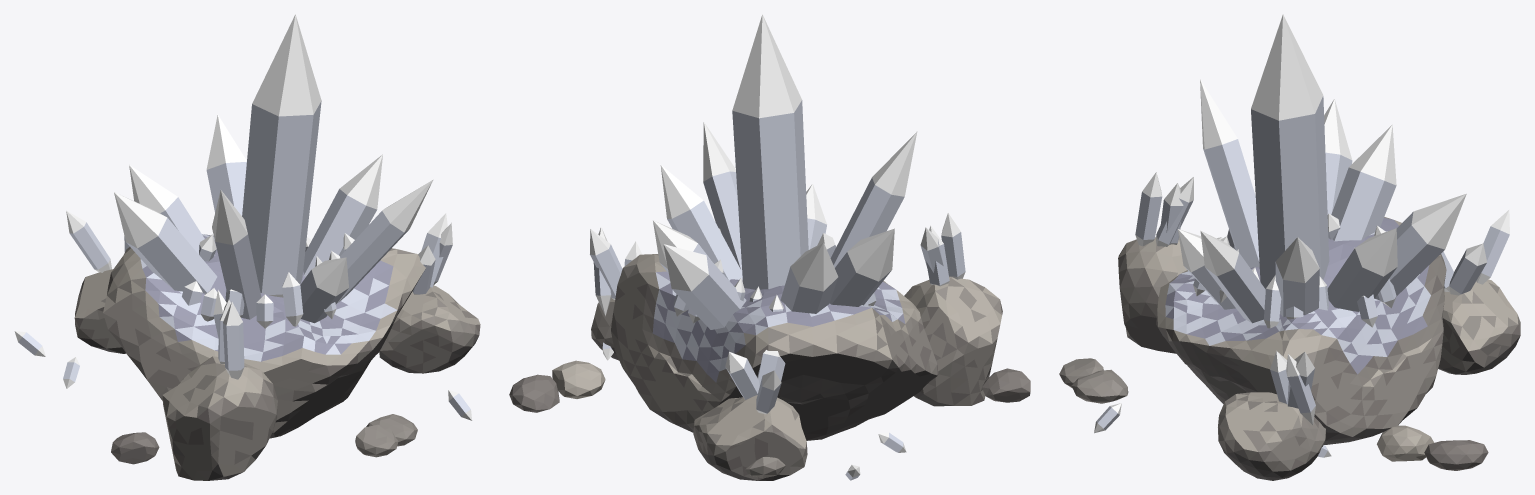
Rendered from Crystal_Quartz.obj.
The picture shows the model from 3 angles, left to right: view 1: azimuth 30°, elevation 25°; view 2: azimuth 150°, elevation 25°; view 3: azimuth 270°, elevation 25°; orthographic projection. The views are drawn at different scales.
Visible parts, largest first — view 1: Crystal_Quartz; view 2: Crystal_Quartz; view 3: Crystal_Quartz.
Part boxes in pixels (bbox=[...]): Crystal_Quartz: bbox=[14, 14, 480, 480]; Crystal_Quartz: bbox=[509, 14, 1030, 480]; Crystal_Quartz: bbox=[1059, 14, 1520, 480].
Bounding box in the file's own units: 1.32 × 1.22 × 1.27.
